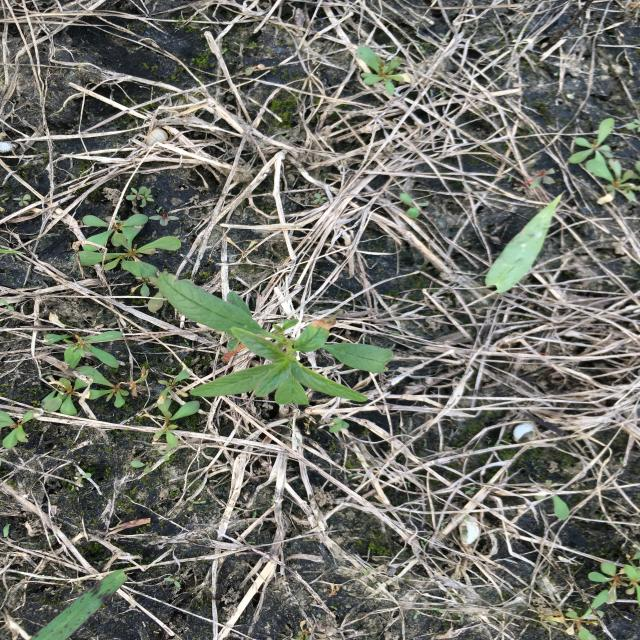Carpetweed: (29, 323, 134, 419), (74, 210, 182, 300), (549, 554, 639, 638), (564, 115, 638, 208), (355, 44, 409, 100), (1, 405, 44, 449)
Waterhemp: (156, 270, 396, 409)
